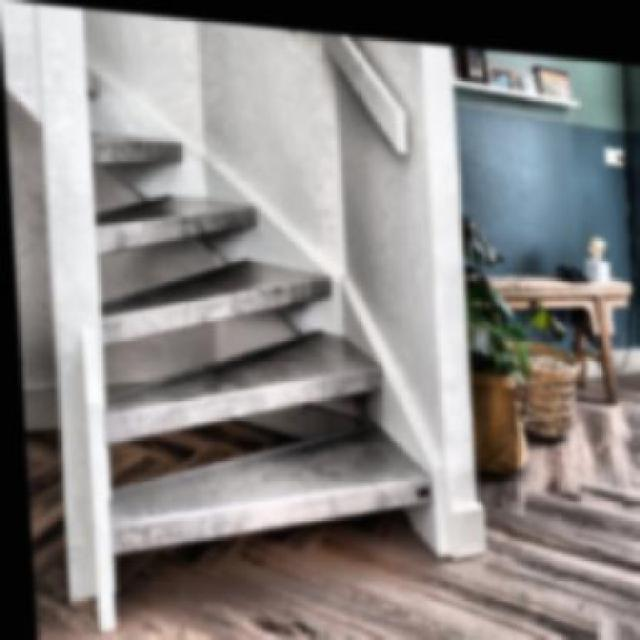stair: (4, 98, 433, 496)
